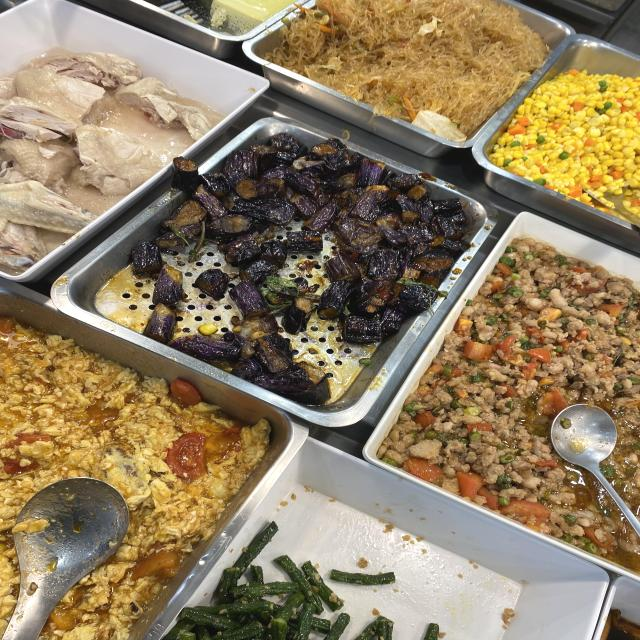Ants climbing the tree: (334, 5, 510, 82)
eggplant: (230, 156, 390, 223)
